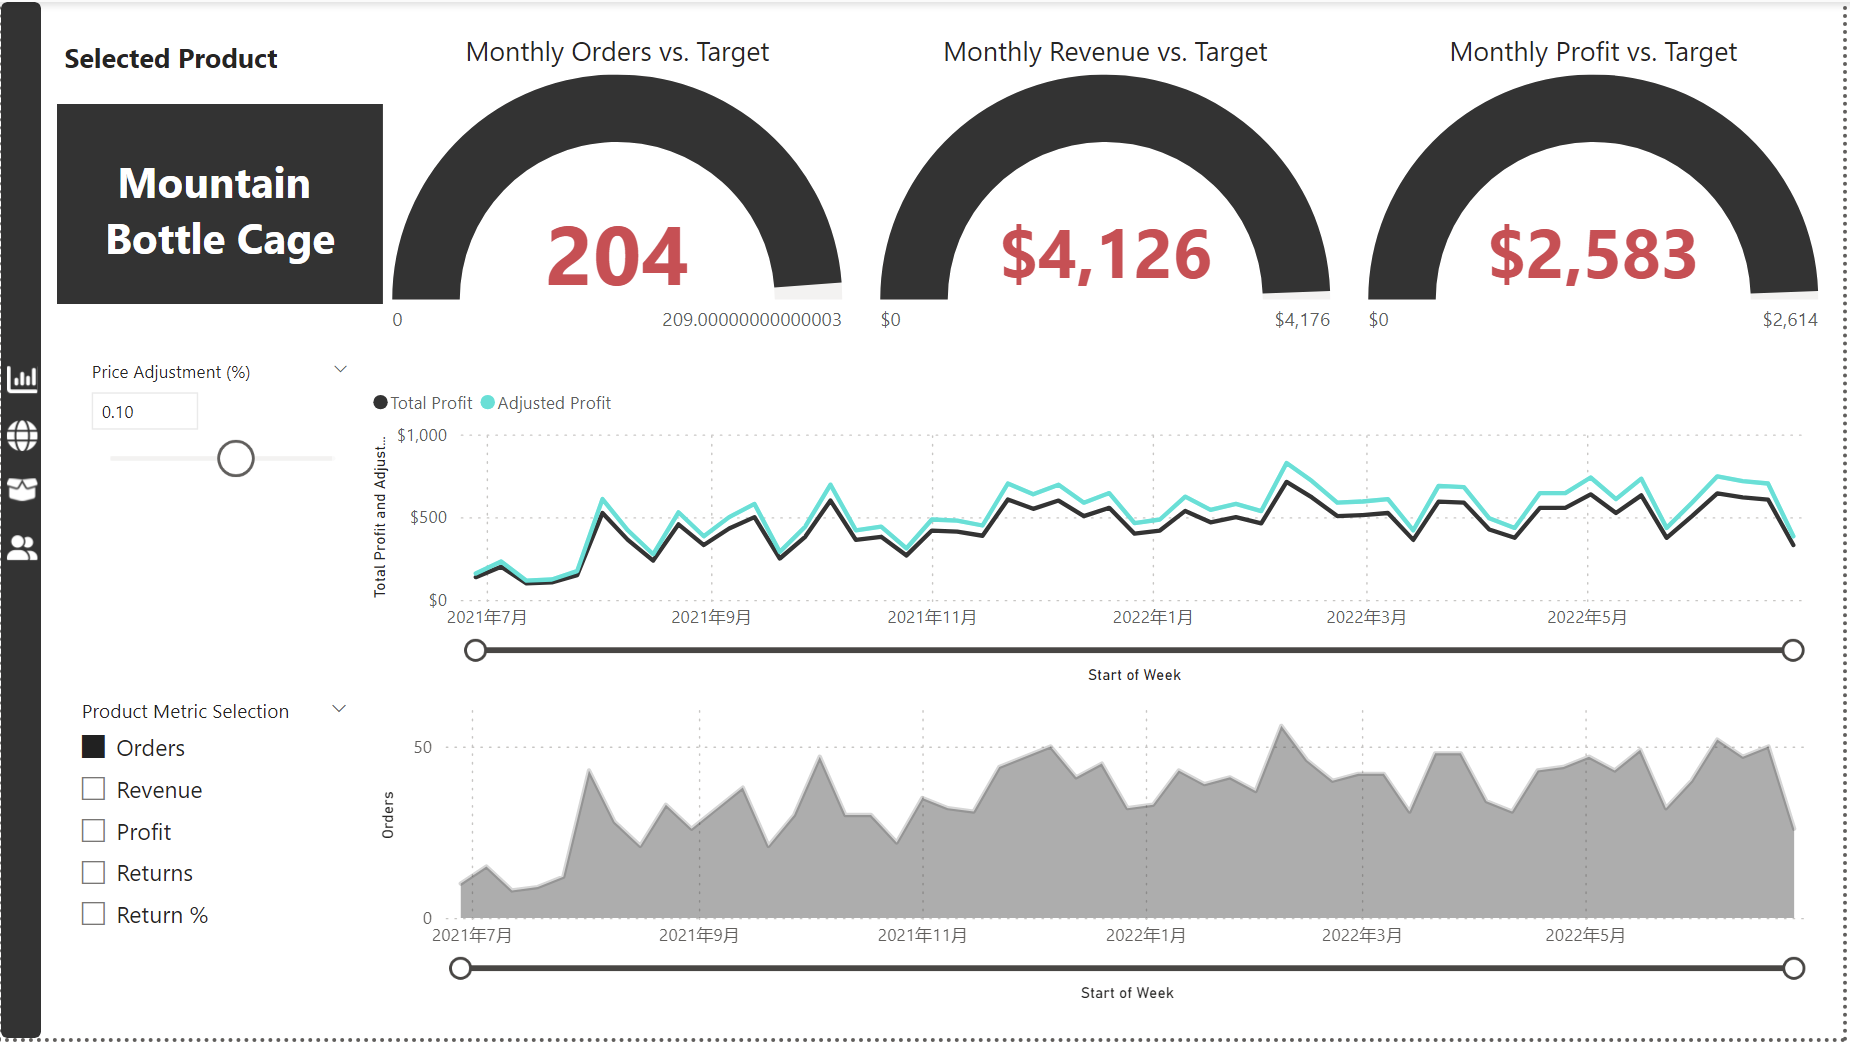

The page's visual inventory and layout, read from the dashboard file:
{"tool":"powerbi","page":{"name":"Product Detail","canvas":[1280,720],"ordinal":2},"visuals":[{"type":"shape","box":[0,0,27.8,720],"z":0},{"type":"actionButton","box":[0,243.6,29.5,38.5],"z":0,"group":"g1"},{"type":"gauge","title":"Monthly Orders vs. Target","fields":{"Y":["Measure Table.Total Orders"],"MaxValue":["Measure Table.Order Target"]},"box":[254,21.5,347.8,218.9],"z":1000},{"type":"actionButton","box":[0,282.1,29.5,38.5],"z":1000,"group":"g1"},{"type":"gauge","title":"Monthly Revenue vs. Target","fields":{"Y":["Measure Table.Total Revenue"],"MaxValue":["Measure Table.Revenue Target"]},"box":[593.1,21.5,347.8,218.9],"z":2000},{"type":"actionButton","box":[0,320.5,29.5,38.5],"z":2000,"group":"g1"},{"type":"gauge","title":"Monthly Profit vs. Target","fields":{"Y":["Measure Table.Total Profit"],"MaxValue":["Measure Table.Profit Target"]},"box":[932.2,21.5,347.8,218.9],"z":3000},{"type":"actionButton","box":[0,360.3,29.5,38.5],"z":3000,"group":"g1"},{"type":"lineChart","title":"Profit Trending","fields":{"Category":["Calendar Lookup.Date Hierarchy.Year","Calendar Lookup.Date Hierarchy.Start of Month","Calendar Lookup.Date Hierarchy.Start of Week","Calendar Lookup.Date Hierarchy.Date"],"Y":["Measure Table.Total Profit","Measure Table.Adjusted Profit"]},"box":[253.3,258.3,1026.7,220],"z":4000},{"type":"areaChart","title":"Returns Trending","fields":{"Y":["Measure Table.Total Orders"],"Category":["Calendar Lookup.Date Hierarchy.Year","Calendar Lookup.Date Hierarchy.Start of Month","Calendar Lookup.Date Hierarchy.Start of Week","Calendar Lookup.Date Hierarchy.Date"]},"box":[258.3,480,1021.7,220],"z":5000},{"type":"card","fields":{"Values":["Min(Product Lookup.ProductName)"]},"box":[38.9,70.9,226.6,139],"z":6000},{"type":"textbox","box":[38.9,20.8,226.6,38.9],"z":7000},{"type":"group","id":"g1","title":"Navigation buttons","box":[0,243.6,29.5,155.1],"z":8000},{"type":"slicer","fields":{"Values":["Price Adjustment (%).Price Adjustment (%)"]},"box":[50,243.3,203.3,118.3],"z":9000},{"type":"slicer","fields":{"Values":["Product Metric Selection.Product Metric Selection"]},"box":[43.3,478.3,210,190],"z":10000}]}

Visuals, with their boxes on the page's 1280x720 design canvas (x1, y1, x2, y2). These are canvas units, not pixel positions in the 1850x1046 screenshot, which may show the page scaled, cropped or inside an application window:
shape: [left=0, top=0, right=28, bottom=720]
actionButton: [left=0, top=244, right=30, bottom=282]
"Monthly Orders vs. Target" gauge: [left=254, top=22, right=602, bottom=240]
actionButton: [left=0, top=282, right=30, bottom=321]
"Monthly Revenue vs. Target" gauge: [left=593, top=22, right=941, bottom=240]
actionButton: [left=0, top=320, right=30, bottom=359]
"Monthly Profit vs. Target" gauge: [left=932, top=22, right=1280, bottom=240]
actionButton: [left=0, top=360, right=30, bottom=399]
"Profit Trending" lineChart: [left=253, top=258, right=1280, bottom=478]
"Returns Trending" areaChart: [left=258, top=480, right=1280, bottom=700]
card - Min(Product Lookup.ProductName): [left=39, top=71, right=266, bottom=210]
textbox: [left=39, top=21, right=266, bottom=60]
"Navigation buttons" group: [left=0, top=244, right=30, bottom=399]
slicer - Price Adjustment (%).Price Adjustment (%): [left=50, top=243, right=253, bottom=362]
slicer - Product Metric Selection.Product Metric Selection: [left=43, top=478, right=253, bottom=668]
